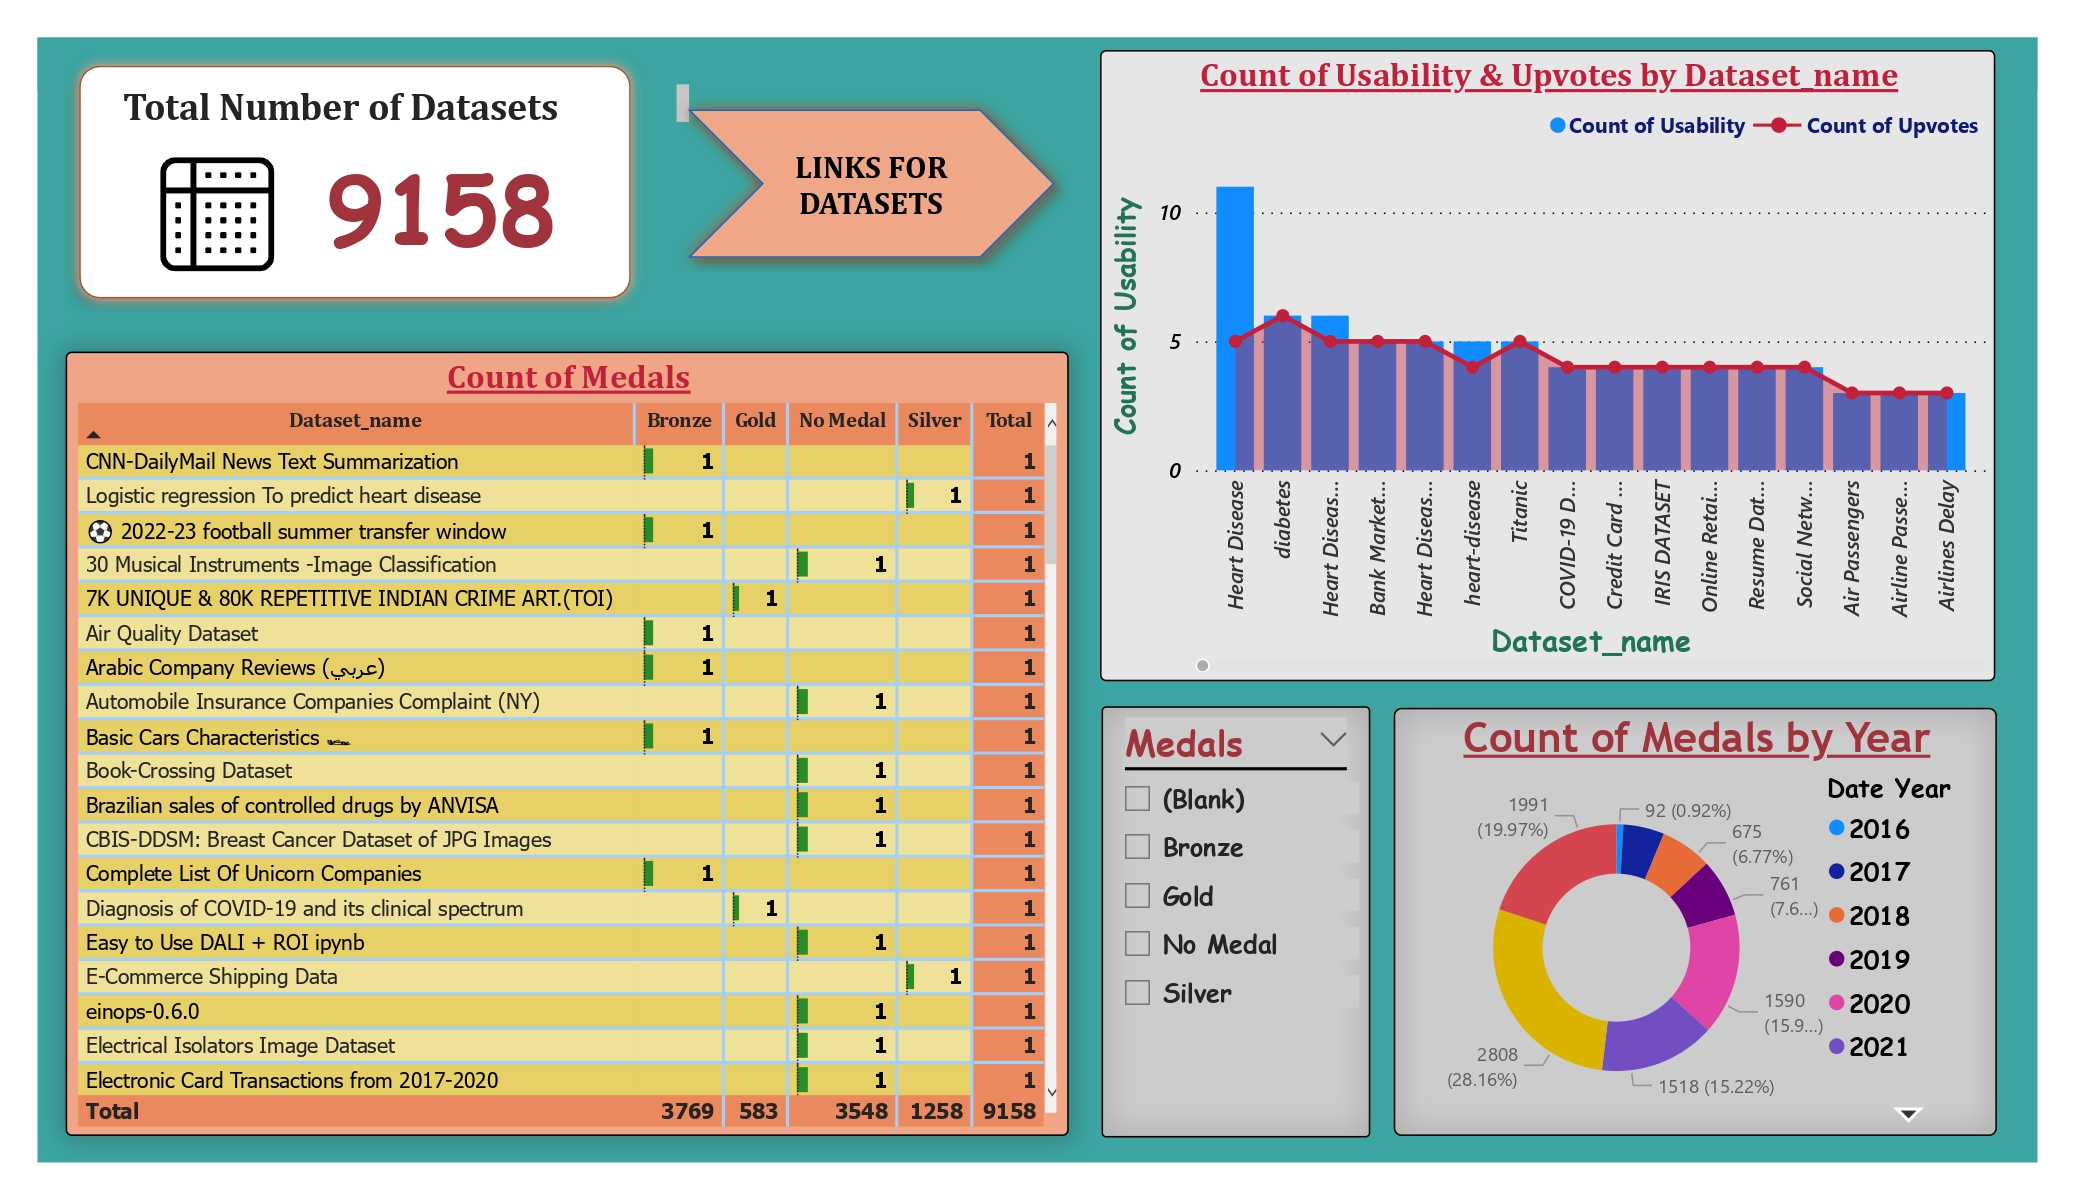

The page's visual inventory and layout, read from the dashboard file:
{"tool":"powerbi","page":{"name":"KAGGLE DASHBOARD","canvas":[1280,720],"ordinal":0},"visuals":[{"type":"shape","box":[18.4,9.2,370.5,166.9],"z":0,"group":"g1"},{"type":"donutChart","fields":{"Category":["kaggle-raw.Date.Variation.Date Hierarchy.Year"],"Y":["kaggle-raw.Medals"]},"box":[868,428.6,385.8,274],"z":0},{"type":"lineClusteredColumnComboChart","title":"Count of Usability & Upvotes by Dataset_name","fields":{"Y":["kaggle-raw.Usability"],"Y2":["kaggle-raw.Upvotes"],"Category":["kaggle-raw.Dataset_name"]},"box":[680,8.3,573.3,403.3],"z":1000},{"type":"card","fields":{"Values":["kaggle-preprocessed.Total No. of Datasets"]},"box":[169.9,57,177.8,100.1],"z":1000,"group":"g1"},{"type":"group","id":"g1","title":"Group 1","box":[18.4,9.2,404.1,166.9],"z":2000},{"type":"textbox","box":[49.9,25.6,372.6,33.4],"z":2000,"group":"g1"},{"type":"image","box":[49.9,62.4,129.9,101.8],"z":3000,"group":"g1"},{"type":"pivotTable","title":"Count of Medals","fields":{"Rows":["kaggle-preprocessed.Author_name","kaggle-preprocessed.Dataset_name"],"Columns":["kaggle-preprocessed.Medals"],"Values":["kaggle-preprocessed.No_of_files"]},"box":[18.4,200.5,641.4,502.1],"z":3000},{"type":"slicer","fields":{"Values":["kaggle-preprocessed.Medals"]},"box":[680.6,428.3,172.9,275.6],"z":4000},{"type":"shape","box":[407.2,36.7,252.6,113.3],"z":5000}]}

Visuals, with their boxes on the page's 1280x720 design canvas (x1, y1, x2, y2). These are canvas units, not pixel positions in the 2075x1200 screenshot, which may show the page scaled, cropped or inside an application window:
shape: 18 9 389 176
donutChart - kaggle-raw.Date.Variation.Date Hierarchy.Year x kaggle-raw.Medals: 868 429 1254 703
"Count of Usability & Upvotes by Dataset_name" lineClusteredColumnComboChart: 680 8 1253 412
card - kaggle-preprocessed.Total No. of Datasets: 170 57 348 157
"Group 1" group: 18 9 422 176
textbox: 50 26 422 59
image: 50 62 180 164
"Count of Medals" pivotTable: 18 200 660 703
slicer - kaggle-preprocessed.Medals: 681 428 854 704
shape: 407 37 660 150
